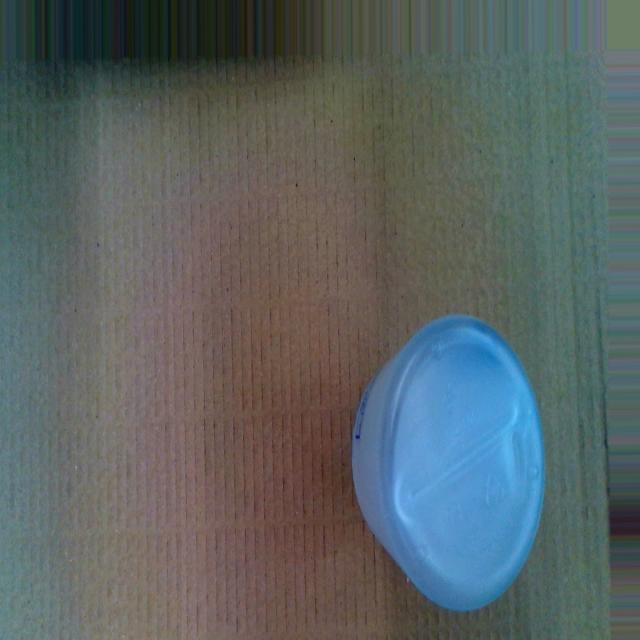bottle: (346, 309, 550, 615)
